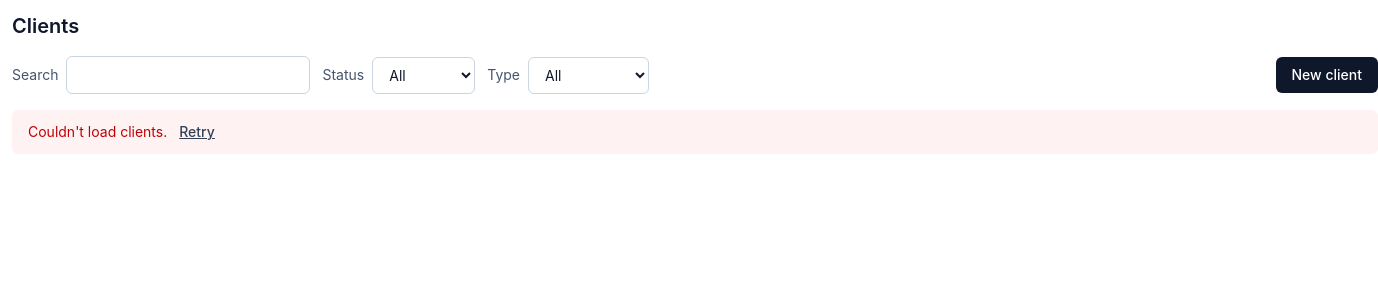
it: ClientsIndexPage › shows an error state and retries the request
Expected: the message shows "Couldn't load clients.", [28,123,167,140]
Click the button "Retry".
click(197, 132)  # box [179,122,215,142]
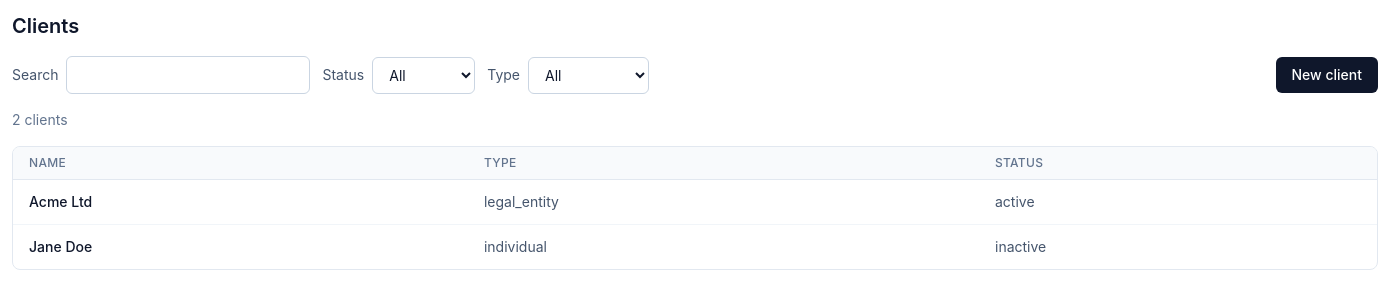
Result: the link "Acme Ltd" is shown at [29,193,92,210]
